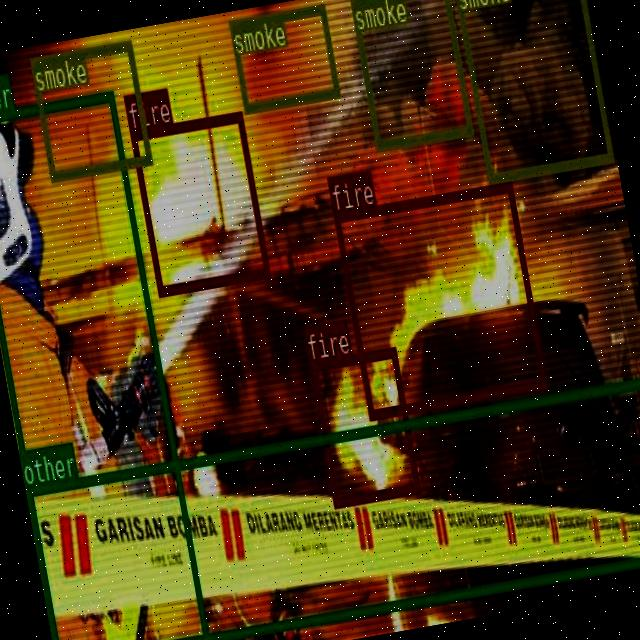fire: (332, 180, 546, 418), (128, 111, 270, 295), (308, 346, 420, 507)
smoke: (451, 0, 612, 181), (348, 0, 472, 150), (29, 39, 151, 180), (227, 2, 339, 110)
